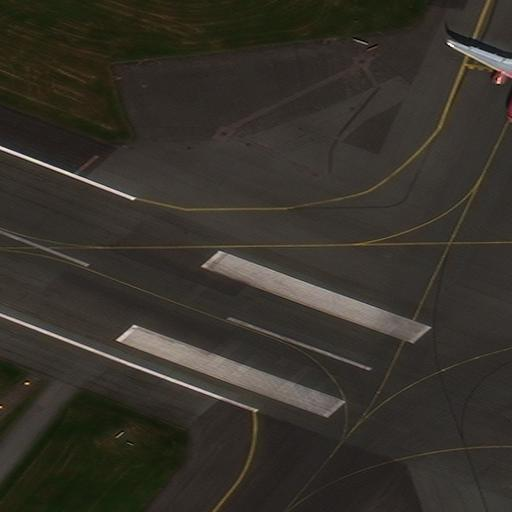Medium Civil Transport: (450, 20, 512, 121)
